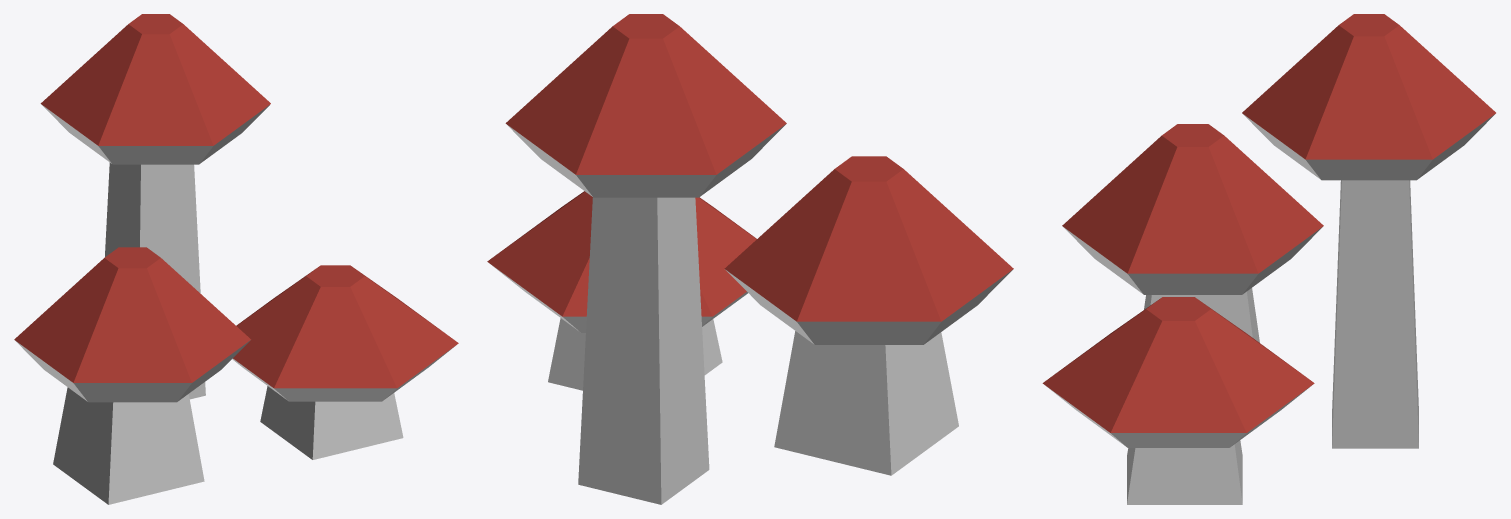
The model's file is rn_mushrooms.glb.
The picture shows the model from 3 angles, left to right: view 1: azimuth 30°, elevation 25°; view 2: azimuth 150°, elevation 25°; view 3: azimuth 270°, elevation 25°; orthographic projection. The views are drawn at different scales.
Parts seen in each view (by area): view 1: rn_mushrooms; view 2: rn_mushrooms; view 3: rn_mushrooms.
Part boxes in pixels (box(x1,y1,x2,y2)): rn_mushrooms: box(14, 14, 458, 504); rn_mushrooms: box(487, 14, 1013, 504); rn_mushrooms: box(1042, 14, 1495, 504).
Size of the model in its own units: 0.701 by 0.6512 by 0.6609.
